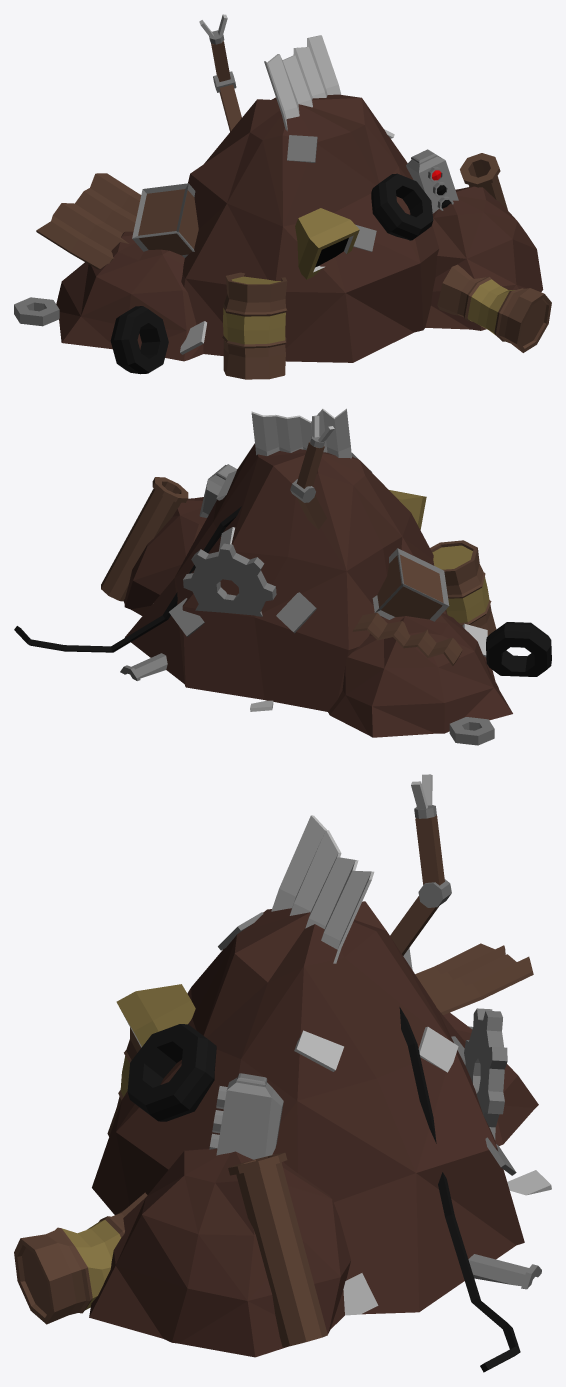
Rendered from MountainTrash.fbx.
3 renders of one model, top to bottom at view 1: azimuth 30°, elevation 25°; view 2: azimuth 150°, elevation 25°; view 3: azimuth 270°, elevation 25°, orthographic. The views are drawn at different scales.
Visible parts, largest first — view 1: Circle.002; view 2: Circle.002; view 3: Circle.002.
Boxes of the visible parts, x1,y1,x2,y2 form: Circle.002: (14,14,551,379); Circle.002: (14,408,551,745); Circle.002: (14,774,551,1372).
Size of the model in its own units: 5.08 by 2.9 by 3.44.
